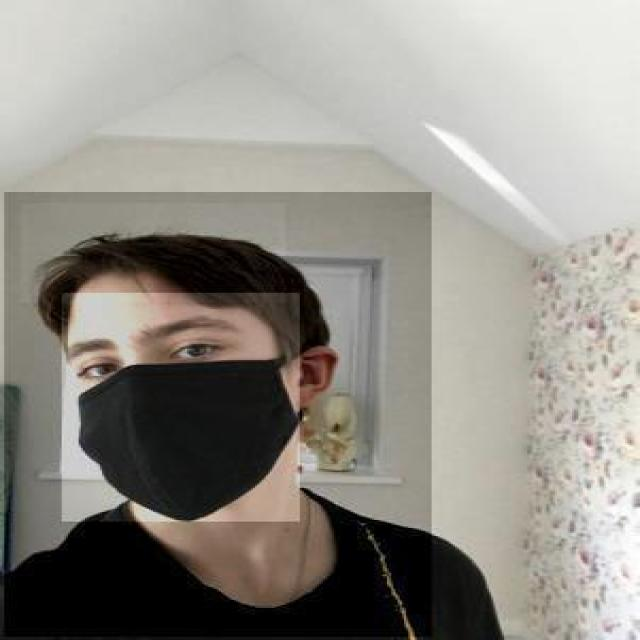face_mask: (62, 293, 300, 522)
head_nohelmet: (21, 204, 285, 302)
person: (4, 192, 434, 638)
